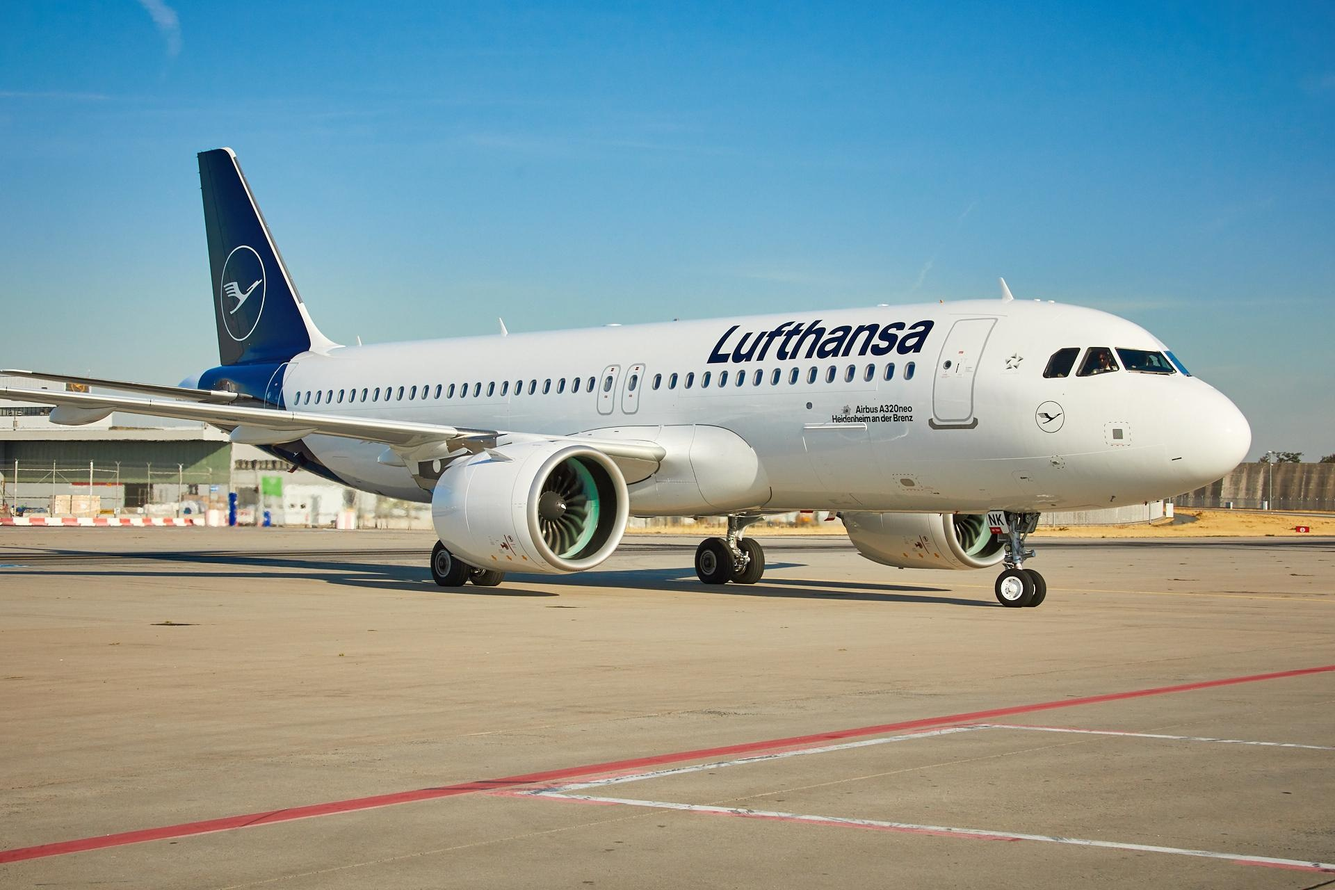aircraft: (6, 144, 1249, 587)
